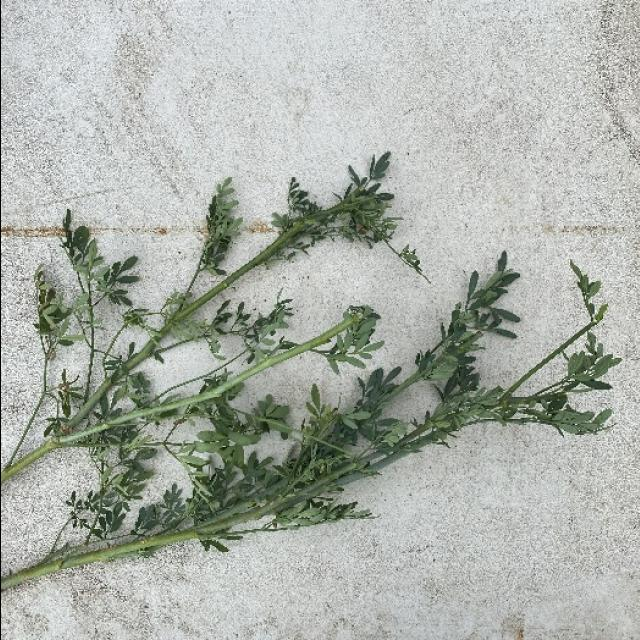organik: (0, 151, 621, 603)
